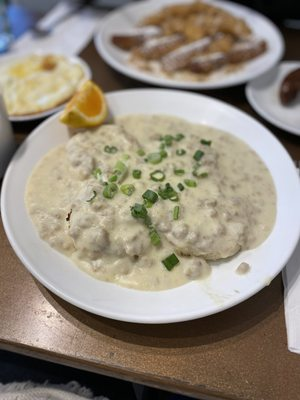sushi: (2, 97, 294, 325)
taco: (59, 79, 109, 130)
